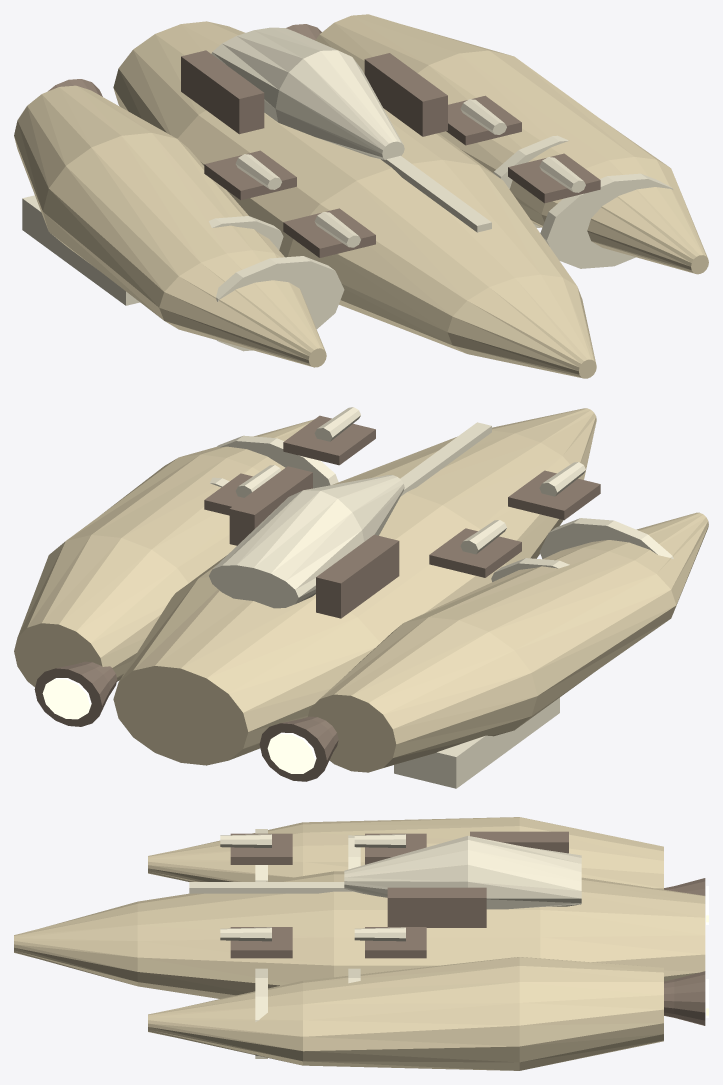
3 renders of one model, top to bottom at view 1: azimuth 30°, elevation 25°; view 2: azimuth 150°, elevation 25°; view 3: azimuth 270°, elevation 25°, orthographic. The views are drawn at different scales.
Bounding box in the file's own units: 12.3 × 4.29 × 16.85.
